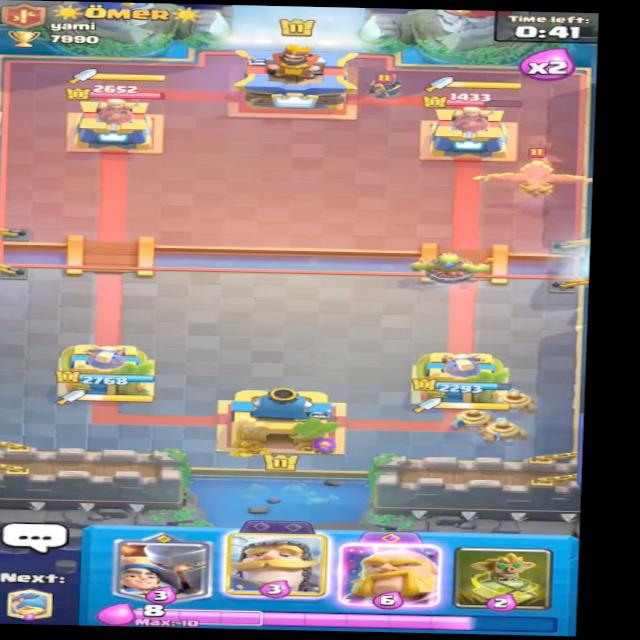mini-pekka: (355, 73, 406, 99)
phoenix: (468, 147, 595, 206)
